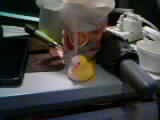duck: (59, 48, 95, 85)
